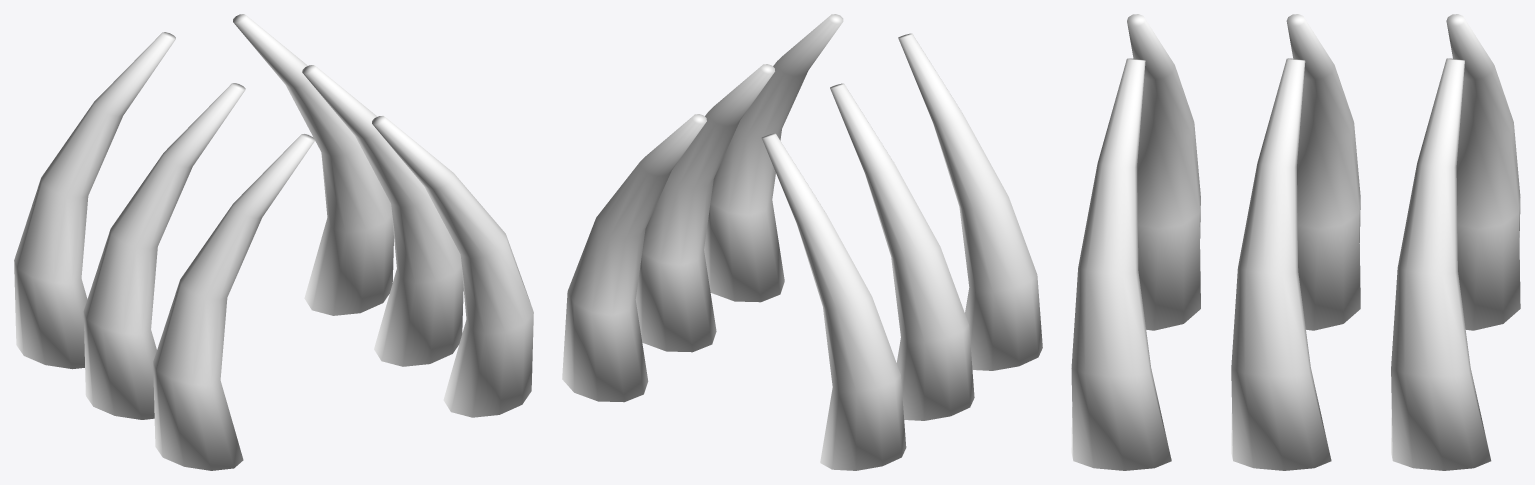
The model's file is Bones_A.fbx.
3 views of the same model, side by side, from view 1: azimuth 30°, elevation 25°; view 2: azimuth 150°, elevation 25°; view 3: azimuth 270°, elevation 25° (orthographic). The views are drawn at different scales.
Parts seen in each view (by area): view 1: Bones_A; view 2: Bones_A; view 3: Bones_A.
Part boxes in pixels (x1,y1,x2,y2): Bones_A: (14,14,533,470); Bones_A: (562,14,1042,470); Bones_A: (1071,14,1520,470).
Bounding box in the file's own units: 152 × 126 × 146.
